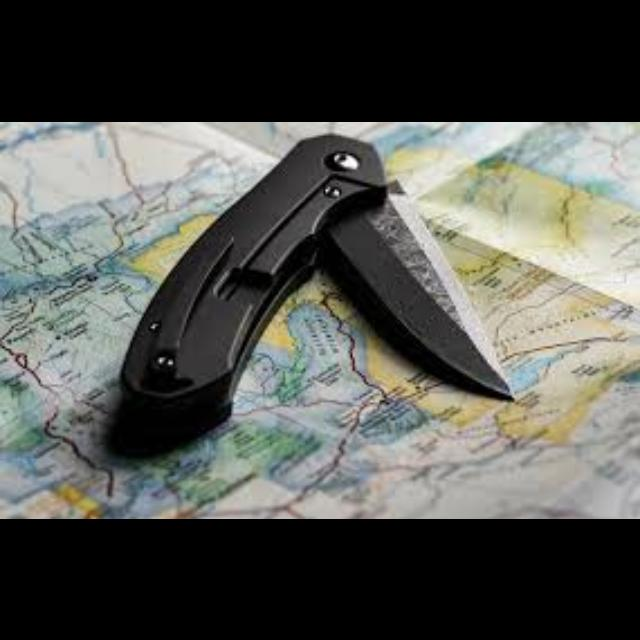knife: (108, 130, 514, 456), (316, 177, 514, 401)
